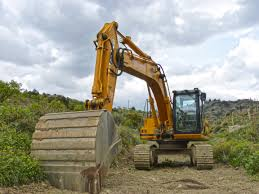excavator: (30, 19, 218, 192)
